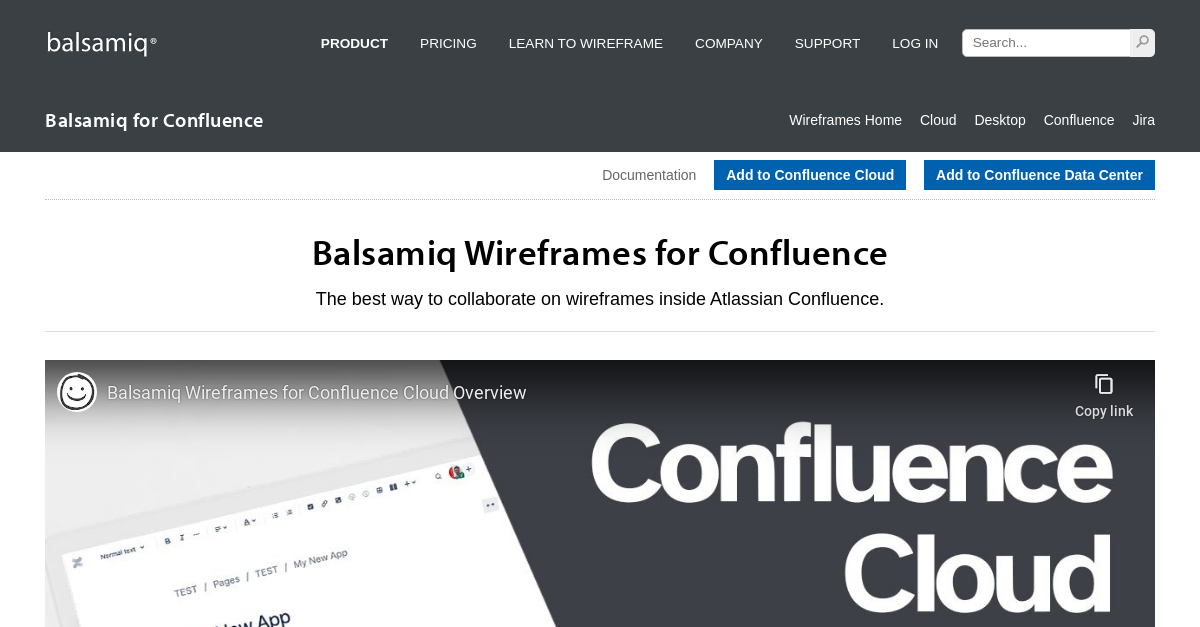search_box: (959, 27, 1157, 57)
